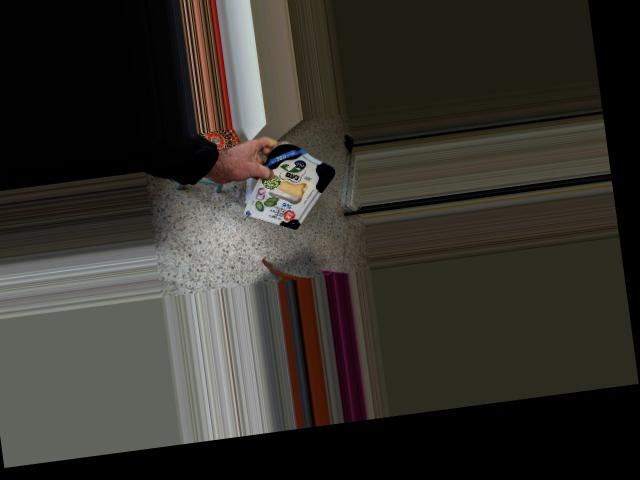cheese: (242, 133, 341, 243)
